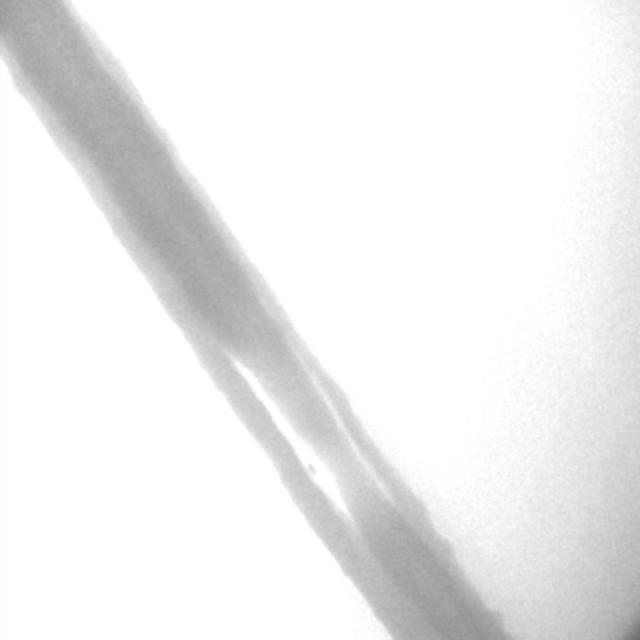unfused: (222, 352, 398, 554)
